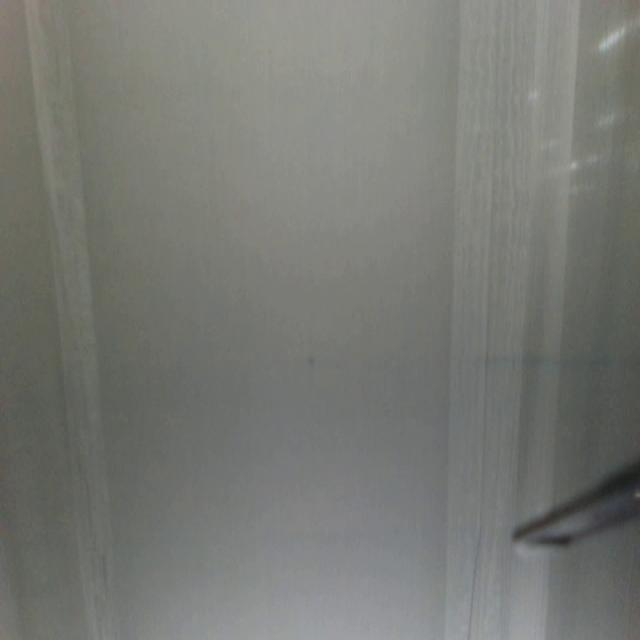crease: (443, 1, 564, 505), (23, 0, 117, 626)
